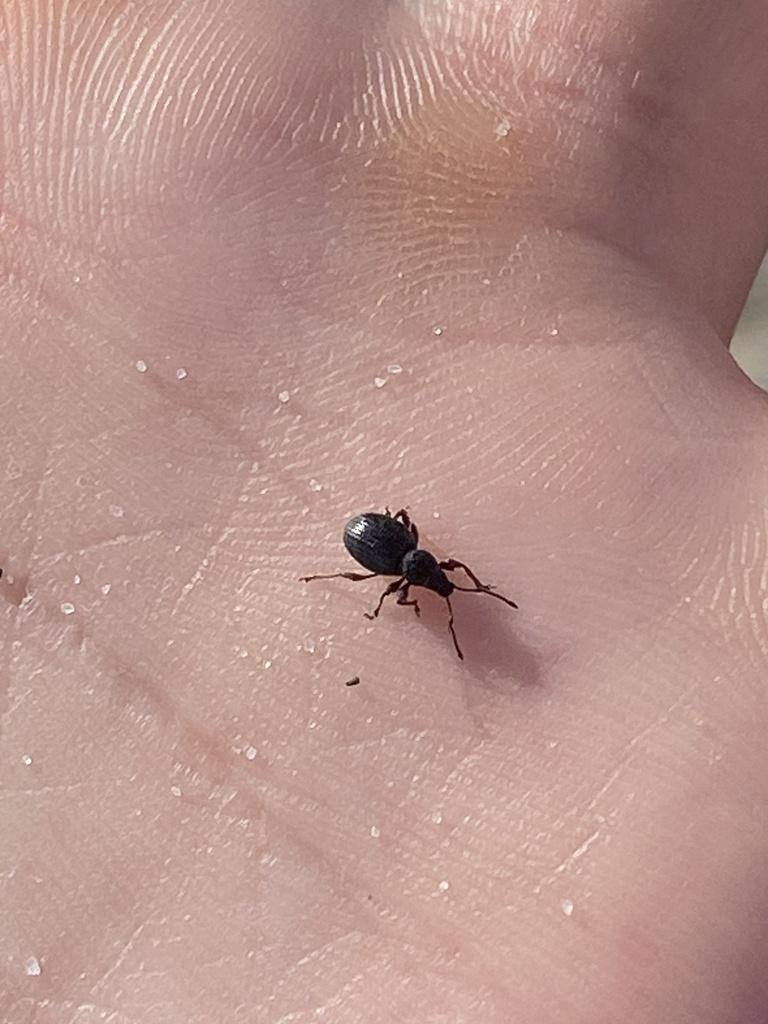weevils: (263, 457, 561, 680)
